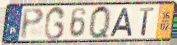6: (69, 7, 87, 39)
A: (107, 7, 134, 38)
G: (43, 5, 67, 41)
P: (20, 7, 46, 41)
Q: (88, 5, 111, 41)
T: (138, 7, 155, 38)
